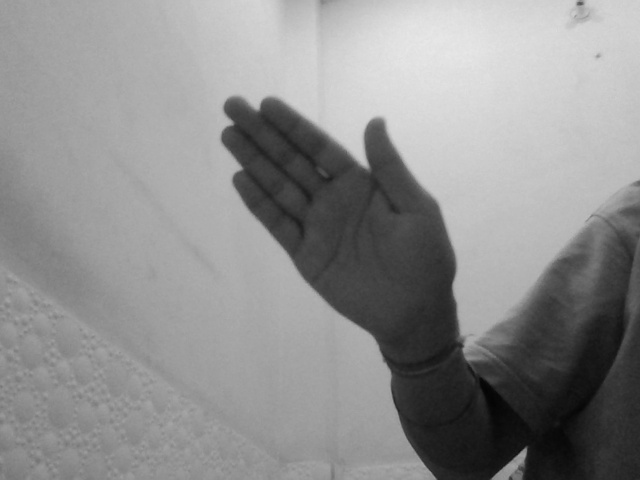Hello: (218, 93, 463, 330)
